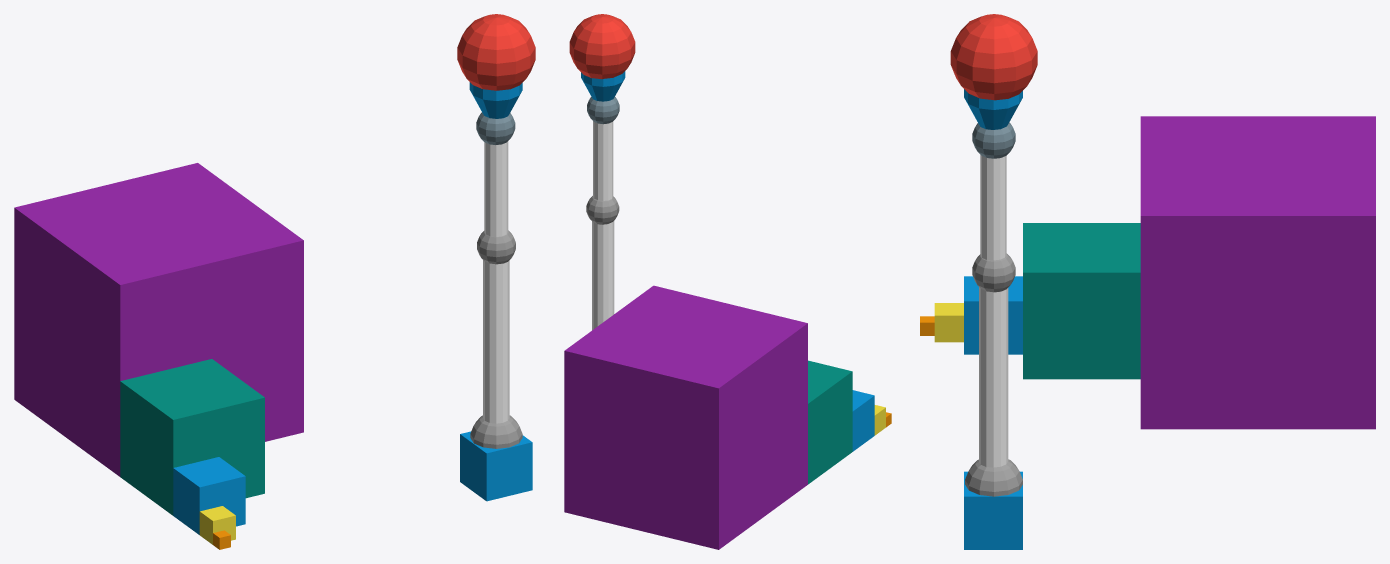
3 views of the same model, side by side, from view 1: azimuth 30°, elevation 25°; view 2: azimuth 150°, elevation 25°; view 3: azimuth 270°, elevation 25° (orthographic). The views are drawn at different scales.
Parts seen in each view (by area): view 1: mesh_763144331, mesh_848601930, group_1221664057, group_1303420098, mesh_424963505, mesh_188918235, group_664089066, mesh_1484800359; view 2: mesh_763144331, group_1221664057, mesh_848601930, group_664089066, group_1303420098, mesh_424963505; view 3: mesh_763144331, mesh_848601930, group_1221664057, group_1303420098, group_664089066, mesh_188918235, mesh_424963505, mesh_1484800359.
Part boxes in pixels (x1=…): mesh_763144331: x1=14, y1=163, x2=303, y2=476; mesh_848601930: x1=120, y1=359, x2=264, y2=515; group_1221664057: x1=457, y1=14, x2=535, y2=145; group_1303420098: x1=470, y1=260, x2=522, y2=448; mesh_424963505: x1=173, y1=457, x2=245, y2=534; mesh_188918235: x1=460, y1=431, x2=532, y2=501; group_664089066: x1=477, y1=141, x2=515, y2=264; mesh_1484800359: x1=199, y1=506, x2=235, y2=544; mesh_763144331: x1=564, y1=285, x2=807, y2=549; group_1221664057: x1=569, y1=14, x2=635, y2=124; mesh_848601930: x1=808, y1=360, x2=852, y2=484; group_664089066: x1=586, y1=121, x2=619, y2=224; group_1303420098: x1=592, y1=221, x2=614, y2=330; mesh_424963505: x1=852, y1=390, x2=874, y2=451; mesh_763144331: x1=1140, y1=116, x2=1375, y2=429; mesh_848601930: x1=1023, y1=223, x2=1140, y2=379; group_1221664057: x1=950, y1=14, x2=1037, y2=158; group_1303420098: x1=965, y1=287, x2=1022, y2=496; group_664089066: x1=972, y1=155, x2=1015, y2=292; mesh_188918235: x1=964, y1=471, x2=1022, y2=549; mesh_424963505: x1=964, y1=276, x2=1022, y2=354; mesh_1484800359: x1=934, y1=303, x2=963, y2=342.
Size of the model in its own units: 30 by 39 by 31.
